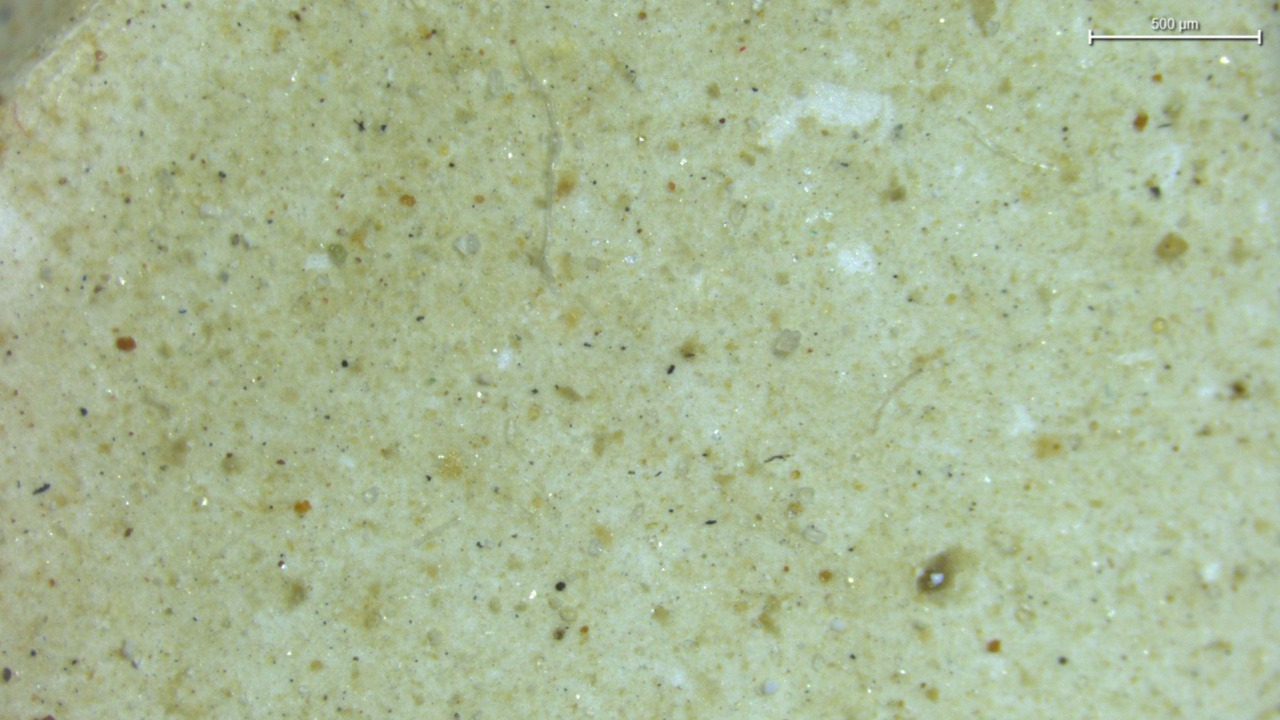microplastic_fragment: (772, 329, 802, 357), (454, 233, 481, 255)
